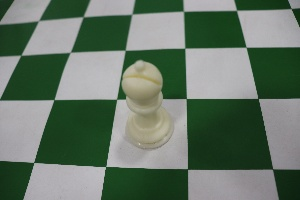white_bishop: (113, 42, 179, 156)
